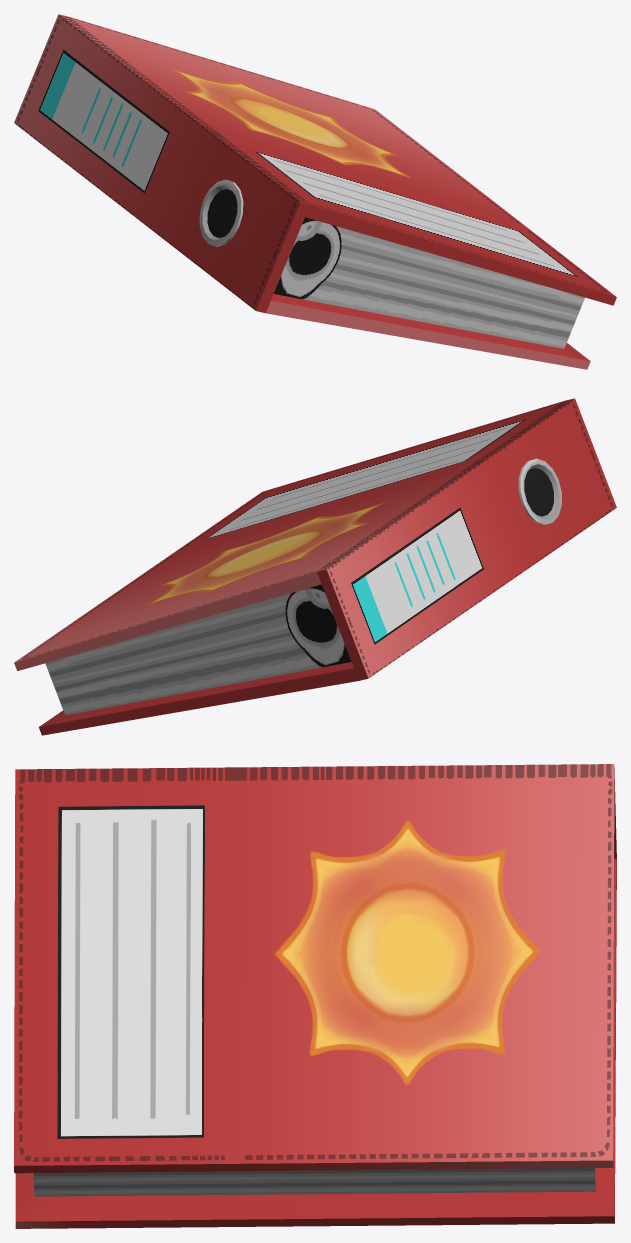
The model's file is Binder_Sun.fbx.
The picture shows the model from 3 angles, top to bottom: view 1: azimuth 30°, elevation 25°; view 2: azimuth 150°, elevation 25°; view 3: azimuth 270°, elevation 25°; orthographic projection. The views are drawn at different scales.
Visible parts, largest first — view 1: Binder_low; view 2: Binder_low; view 3: Binder_low.
Part boxes in pixels (left/top/right/bottom): Binder_low: left=14, top=14, right=616, bottom=369; Binder_low: left=14, top=398, right=616, bottom=735; Binder_low: left=14, top=764, right=616, bottom=1228.
Bounding box in the file's own units: 1158 × 743 × 1366.
Materials: 1 (1 with a texture image).
